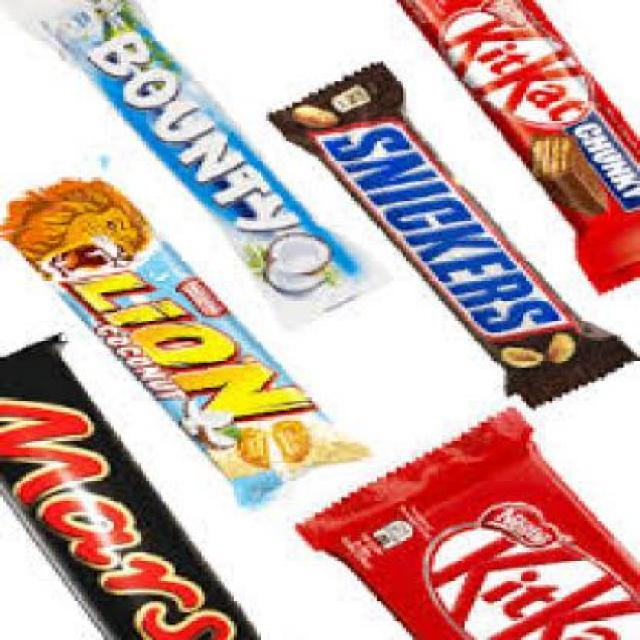Chocolate bar: (3, 165, 368, 524), (292, 62, 634, 406), (36, 2, 364, 313), (283, 414, 637, 638), (3, 338, 263, 638), (374, 2, 637, 282)
